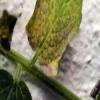Tomato leaf bacterial spot: (26, 1, 84, 73)
